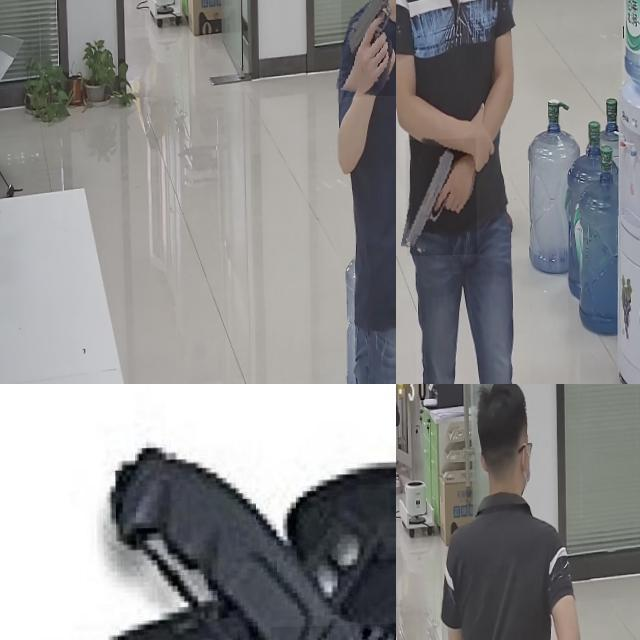gun-knife-thesis - v11 Yolov5 augmented: (404, 140, 476, 258), (340, 0, 396, 99)
